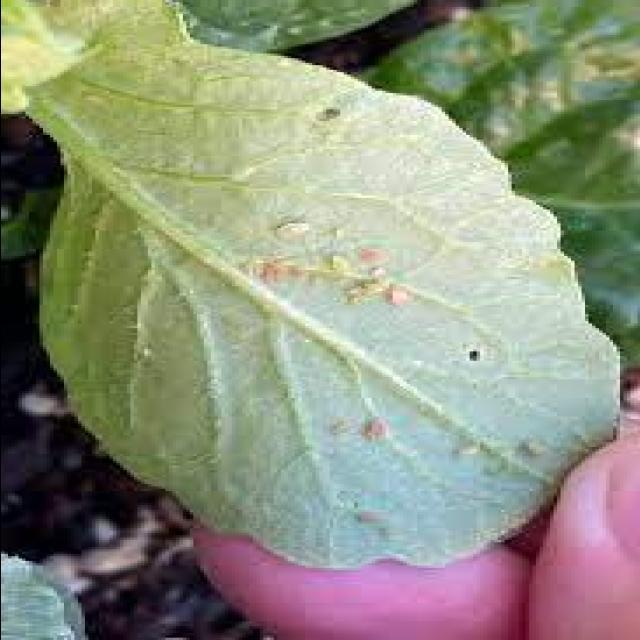aphid: (381, 284, 427, 314), (518, 438, 564, 466), (273, 218, 322, 244), (353, 509, 399, 534), (361, 416, 398, 446), (451, 440, 493, 466), (356, 244, 398, 270), (325, 226, 360, 247), (270, 265, 298, 291), (259, 261, 283, 291), (326, 254, 350, 278), (342, 296, 370, 314), (342, 286, 370, 302)
